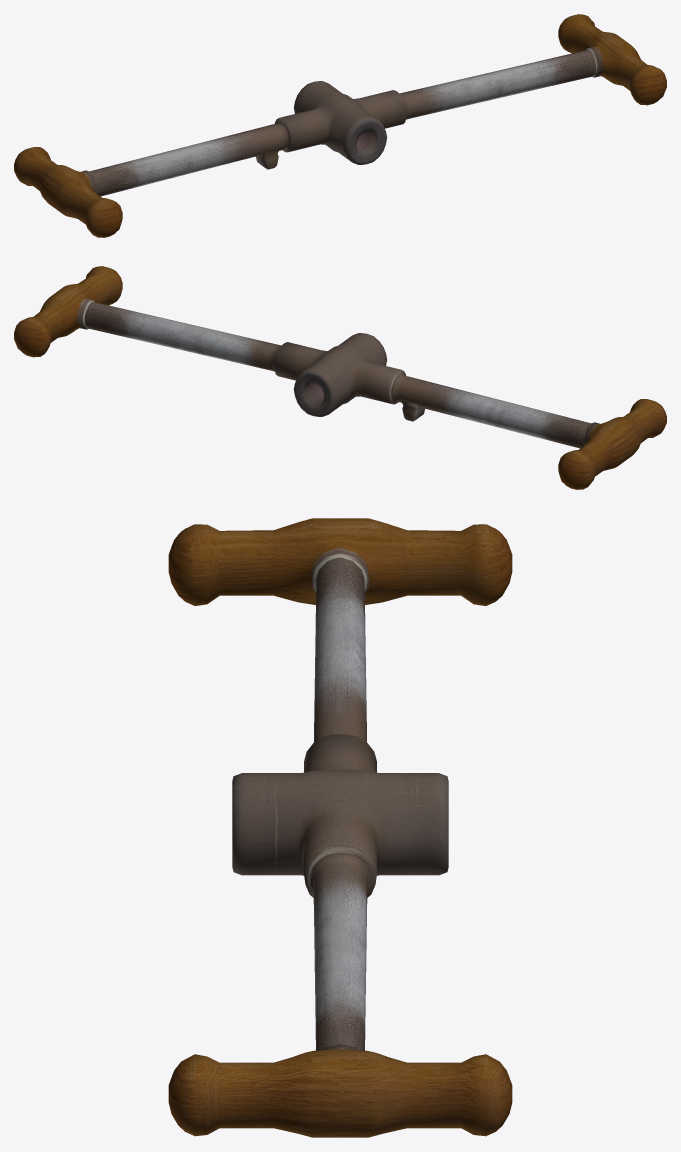
File: pump_handle.glb
3 views of the same model, one above another, from view 1: azimuth 30°, elevation 25°; view 2: azimuth 150°, elevation 25°; view 3: azimuth 270°, elevation 25° (orthographic). The views are drawn at different scales.
Bounding box in the file's own units: 2 × 0.1624 × 0.5118.
Materials: 1 (1 with a texture image).
